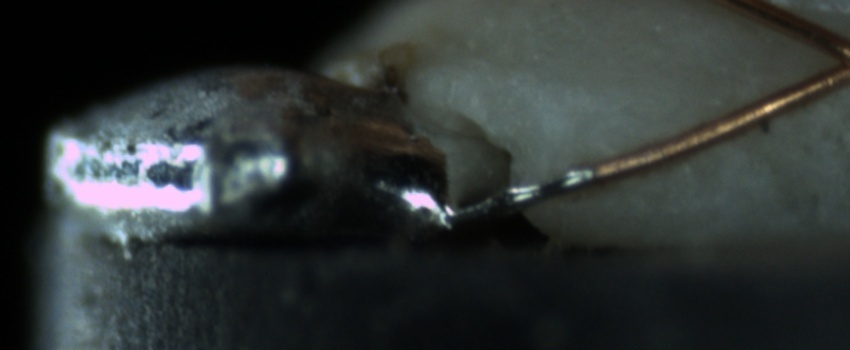CL: (803, 21, 850, 96)
TB: (495, 179, 539, 215)
TS: (434, 166, 592, 225)
TTCW: (431, 141, 647, 225)
